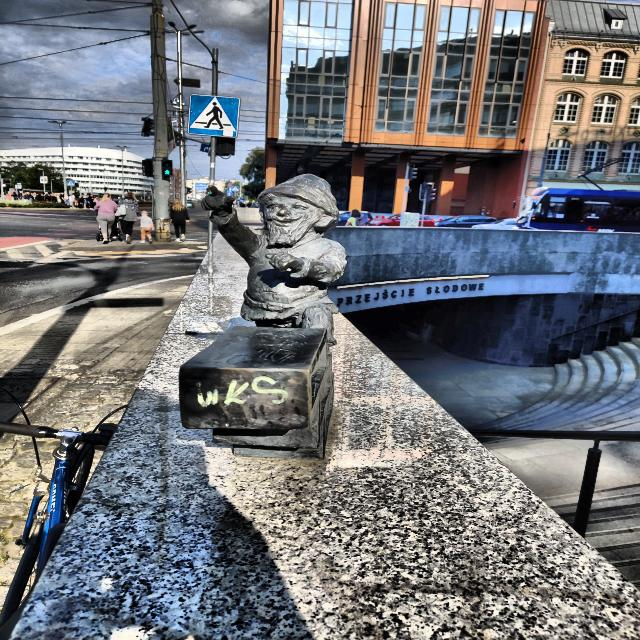Elementek: (180, 175, 347, 459)
